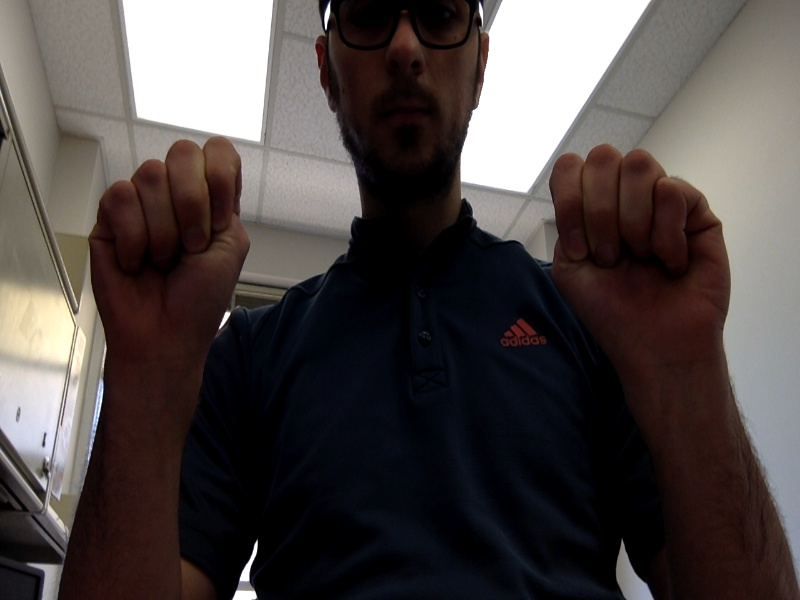0-hand: (551, 146, 731, 353), (89, 138, 251, 352)
